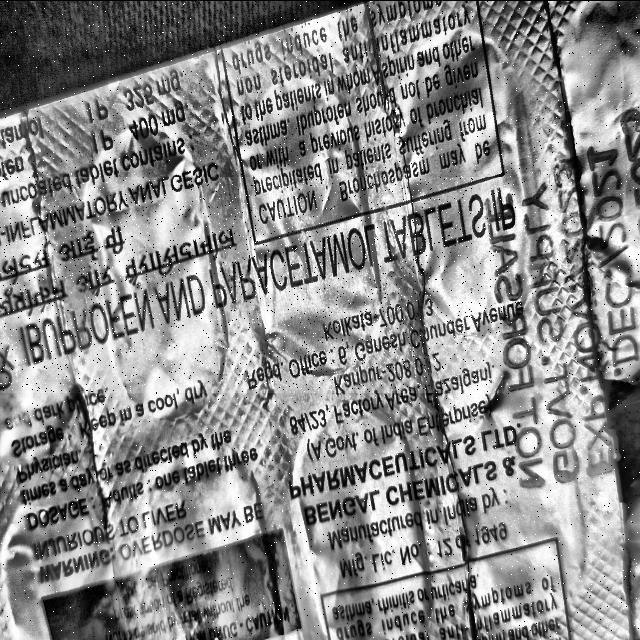IBUPROFEN AND PARACETAMOL TABLETS: (0, 176, 503, 391)
